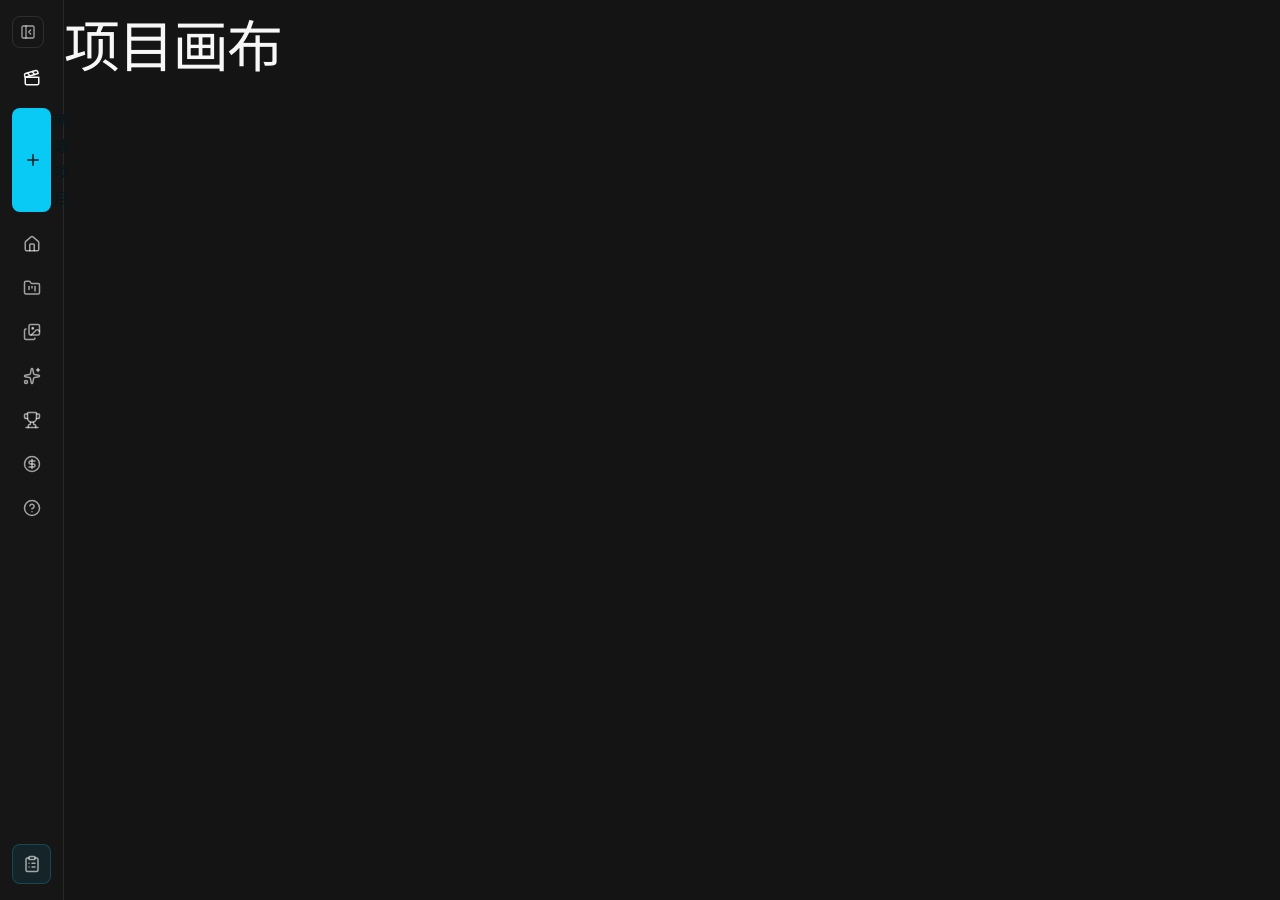
Test case: platform shell › keeps the task drawer collapsed by default and opens it as a layout column
This screenshot has width=1280, height=900.
Expected: the element "平台完善路线图" is not shown
Click the button named "打开阶段任务" at (32, 864), box 12,844 -> 51,884
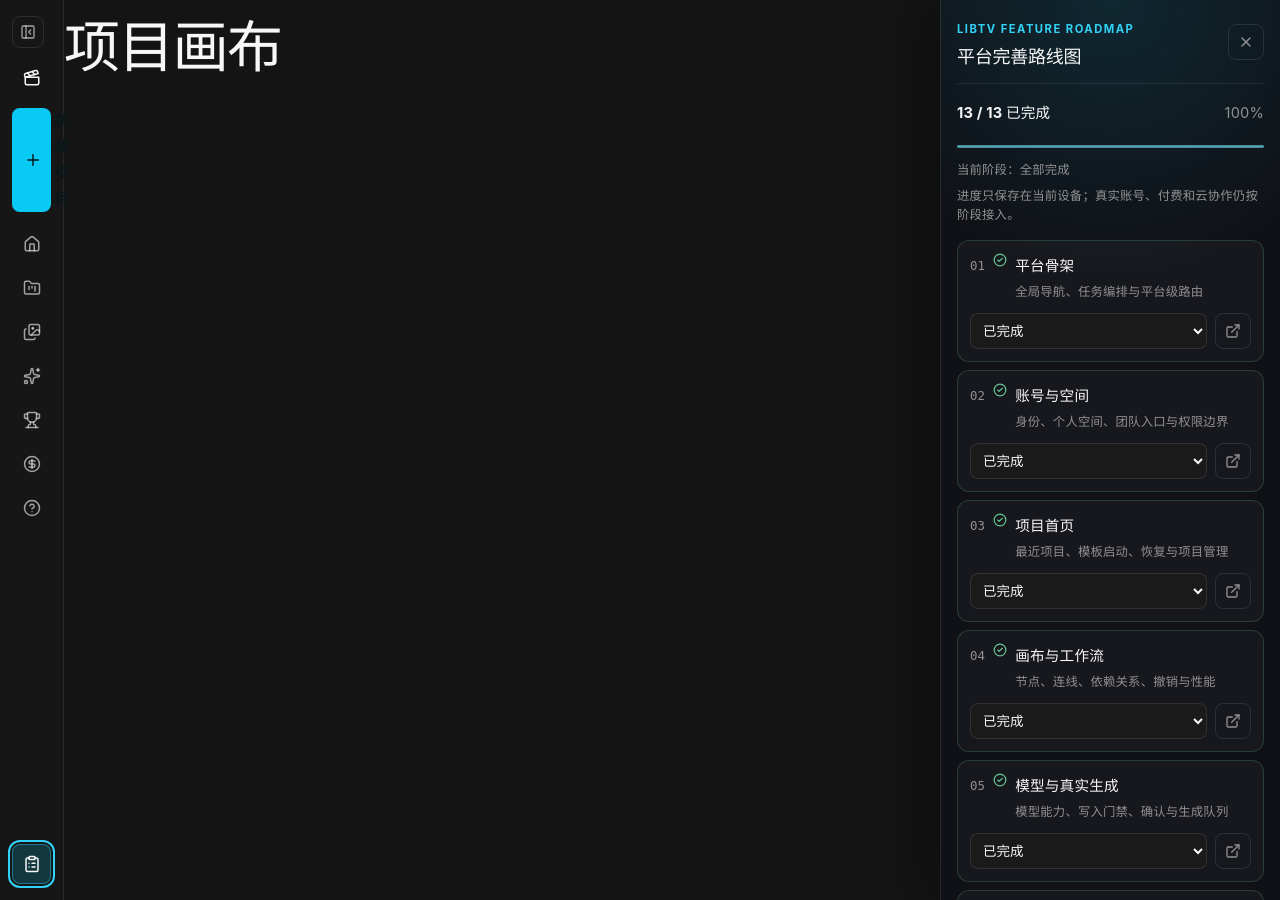
Result: the element "平台完善路线图" is shown at 940,0 -> 1279,899
